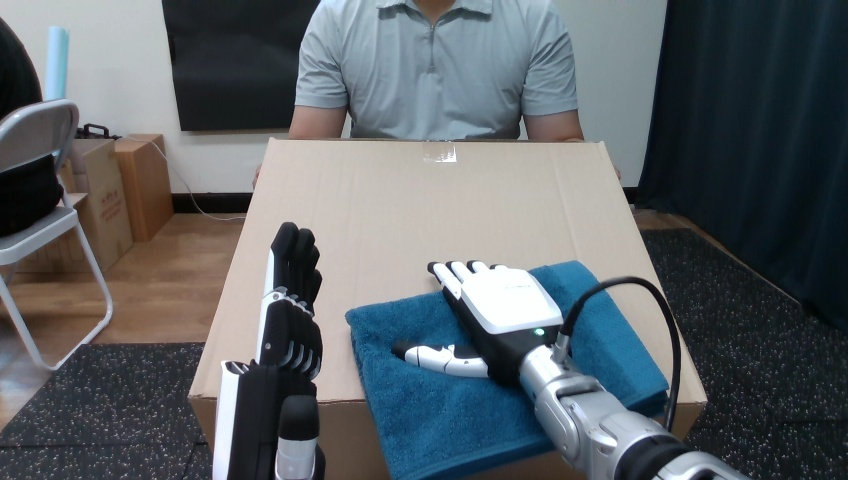left robot hand: (393, 260, 748, 479), (213, 222, 323, 479), (568, 283, 673, 425)
